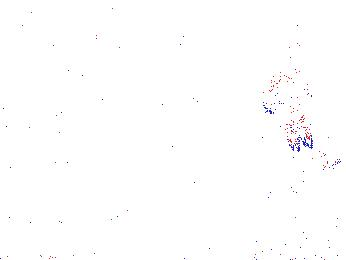flame jellyfish: (65, 172, 150, 228), (260, 72, 316, 153), (281, 151, 342, 217)
